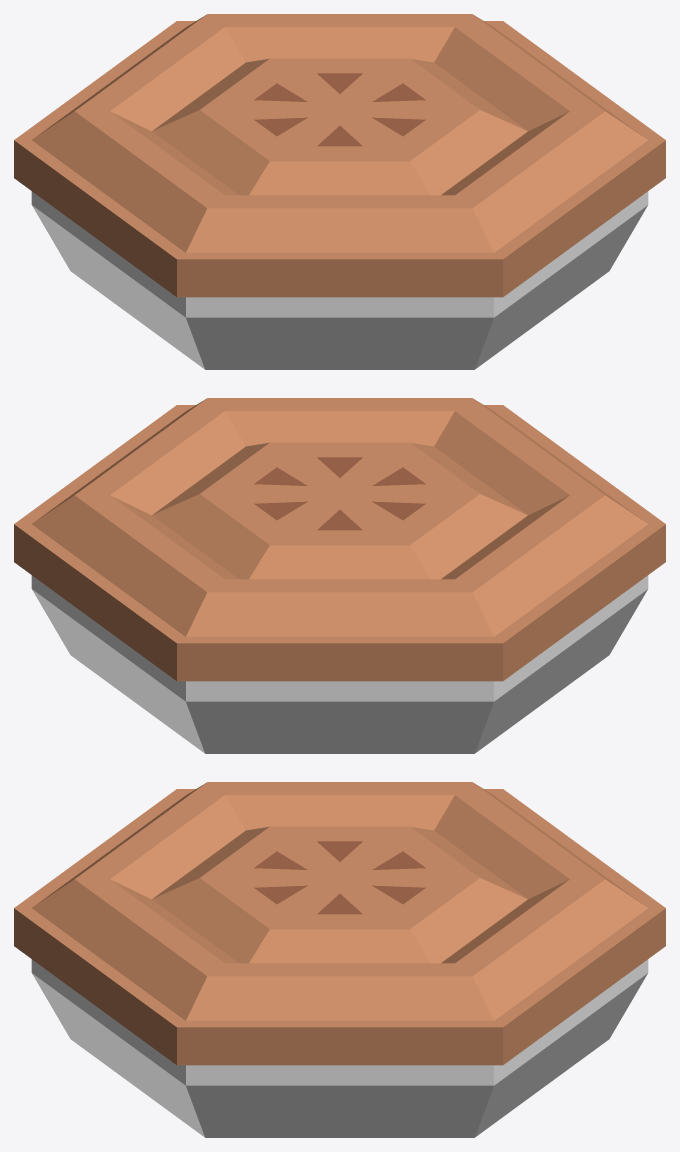
The model's file is mincemeatPie.fbx.
3 renders of one model, top to bottom at view 1: azimuth 30°, elevation 25°; view 2: azimuth 150°, elevation 25°; view 3: azimuth 270°, elevation 25°, orthographic.
Parts seen in each view (by area): view 1: mincemeatPie; view 2: mincemeatPie; view 3: mincemeatPie.
Boxes of the visible parts, box(x1,y1,x2,y2) form: mincemeatPie: box(14, 14, 665, 369); mincemeatPie: box(14, 398, 665, 753); mincemeatPie: box(14, 782, 665, 1137).
Bounding box in the file's own units: 5.31 × 1.67 × 6.13.
